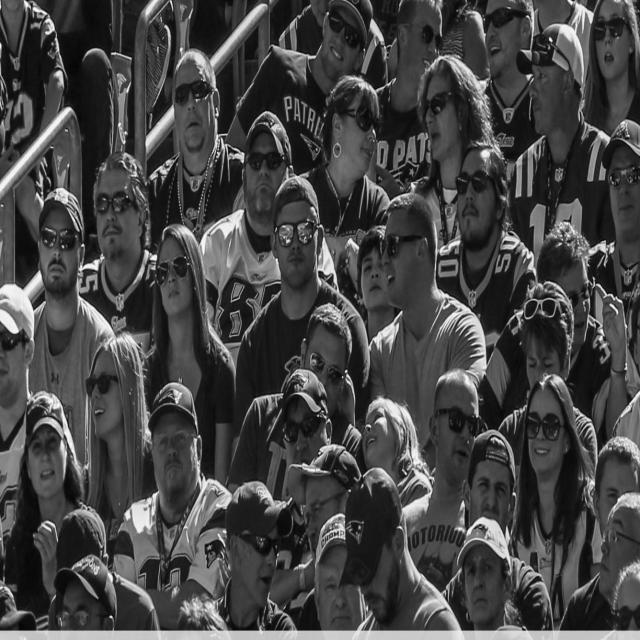person: (229, 162, 371, 452), (502, 8, 640, 267), (481, 221, 631, 437), (106, 382, 234, 628), (364, 197, 488, 448), (228, 1, 388, 174), (505, 372, 599, 628), (315, 469, 464, 628), (1, 412, 108, 622), (298, 77, 393, 288), (442, 514, 556, 628), (573, 438, 640, 628), (150, 214, 223, 387), (221, 479, 302, 628), (82, 320, 147, 498), (34, 182, 85, 406), (91, 147, 155, 303), (162, 43, 220, 211), (482, 2, 542, 160), (450, 148, 512, 295), (418, 61, 490, 181), (462, 422, 520, 554), (420, 362, 471, 511), (600, 105, 639, 291), (0, 270, 39, 442), (393, 0, 447, 124), (277, 366, 328, 467), (302, 288, 348, 393), (46, 562, 118, 628), (596, 429, 640, 518), (603, 500, 640, 592)
